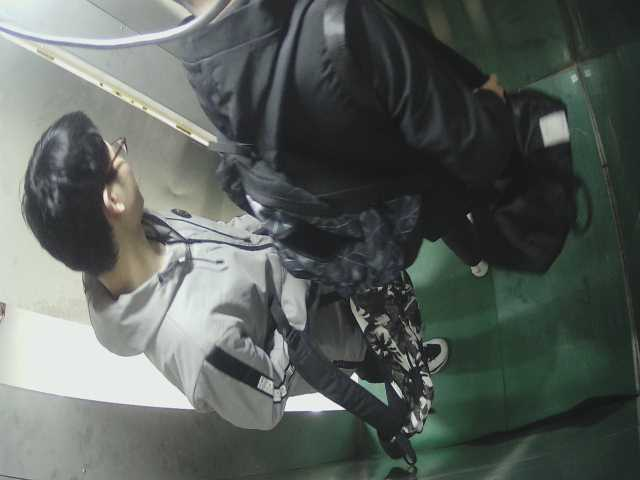bag: (201, 134, 429, 295), (274, 281, 450, 452)
person: (21, 110, 457, 424)
